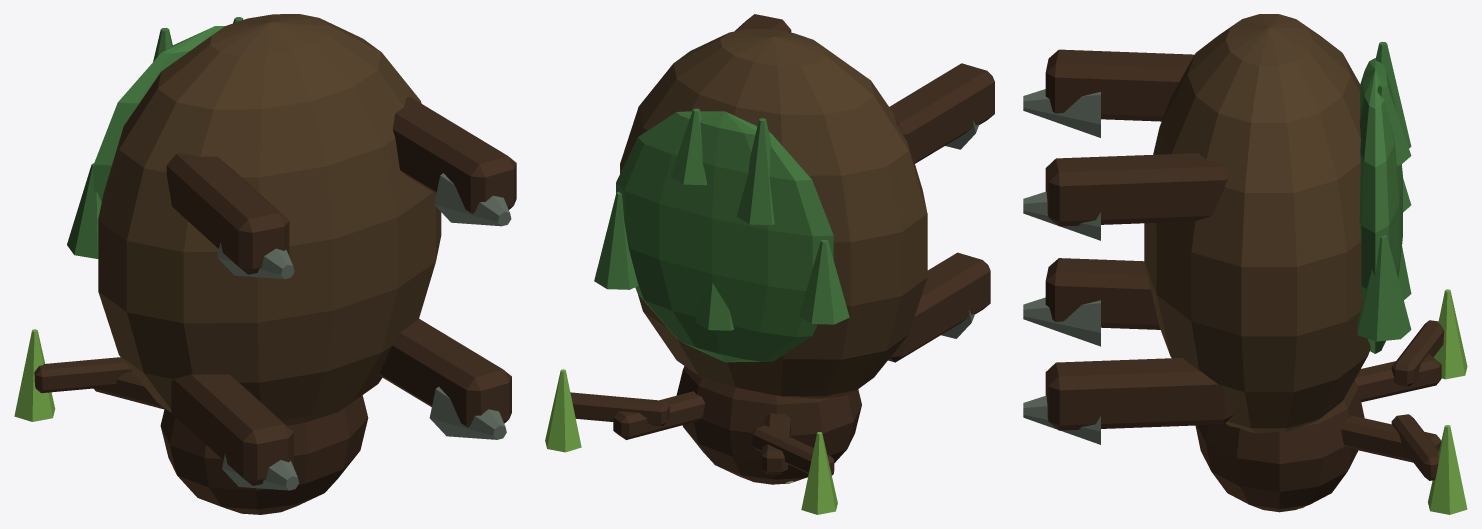
File: Mosswarden.glb
3 views of the same model, side by side, from view 1: azimuth 30°, elevation 25°; view 2: azimuth 150°, elevation 25°; view 3: azimuth 270°, elevation 25° (orthographic). The views are drawn at different scales.
Parts seen in each view (by area): view 1: Body, Head, BackLeftLeg, FrontLeftLeg, BackRightLeg, FrontRightLeg, CanopyMoss, AntlerBranchL, FrontRightLegClaw, BackRightLegClaw, AntlerTipL, BackSpire1 (+3 smaller); view 2: Body, CanopyMoss, Head, BackLeftLeg, FrontLeftLeg, BackSpire1, BackSpire2, BackSpire4, AntlerBranchR, AntlerBaseR, AntlerTipR, AntlerTipL (+5 smaller); view 3: Body, BackRightLeg, FrontRightLeg, Head, BackLeftLeg, CanopyMoss, FrontLeftLeg, BackSpire4, AntlerBaseR, AntlerTipR, AntlerBaseL, FrontLeftLegClaw (+8 smaller).
Boxes of the visible parts, x1=… form: Body: x1=98, y1=14, x2=441, y2=425; Head: x1=160, y1=395, x2=368, y2=514; BackLeftLeg: x1=166, y1=153, x2=289, y2=274; FrontLeftLeg: x1=171, y1=374, x2=293, y2=485; BackRightLeg: x1=392, y1=97, x2=516, y2=213; FrontRightLeg: x1=379, y1=319, x2=511, y2=427; CanopyMoss: x1=93, y1=26, x2=224, y2=201; AntlerBranchL: x1=34, y1=357, x2=132, y2=393; FrontRightLegClaw: x1=429, y1=386, x2=506, y2=439; BackRightLegClaw: x1=434, y1=173, x2=511, y2=226; AntlerTipL: x1=14, y1=329, x2=55, y2=421; BackSpire1: x1=67, y1=163, x2=101, y2=258; Body: x1=620, y1=29, x2=927, y2=398; CanopyMoss: x1=616, y1=111, x2=833, y2=362; Head: x1=676, y1=366, x2=861, y2=484; BackLeftLeg: x1=889, y1=63, x2=994, y2=163; FrontLeftLeg: x1=888, y1=252, x2=990, y2=362; BackSpire1: x1=799, y1=240, x2=849, y2=324; BackSpire2: x1=736, y1=118, x2=774, y2=225; BackSpire4: x1=594, y1=191, x2=638, y2=289; AntlerBranchR: x1=570, y1=392, x2=669, y2=426; AntlerBaseR: x1=613, y1=391, x2=704, y2=439; AntlerTipR: x1=545, y1=369, x2=581, y2=452; AntlerTipL: x1=801, y1=432, x2=837, y2=514; Body: x1=1144, y1=14, x2=1370, y2=433; BackRightLeg: x1=1045, y1=153, x2=1227, y2=226; FrontRightLeg: x1=1045, y1=358, x2=1233, y2=430; Head: x1=1195, y1=380, x2=1364, y2=512; BackLeftLeg: x1=1045, y1=49, x2=1194, y2=121; CanopyMoss: x1=1359, y1=58, x2=1402, y2=353; FrontLeftLeg: x1=1045, y1=258, x2=1160, y2=329; BackSpire4: x1=1357, y1=234, x2=1411, y2=341; AntlerBaseR: x1=1341, y1=415, x2=1441, y2=462; AntlerTipR: x1=1428, y1=425, x2=1467, y2=514; AntlerBaseL: x1=1354, y1=354, x2=1441, y2=402; FrontLeftLegClaw: x1=1023, y1=297, x2=1100, y2=346.
Bounding box in the file's own units: 7.04 × 10.1 × 8.58.
Materials: 1 (1 with a texture image).
